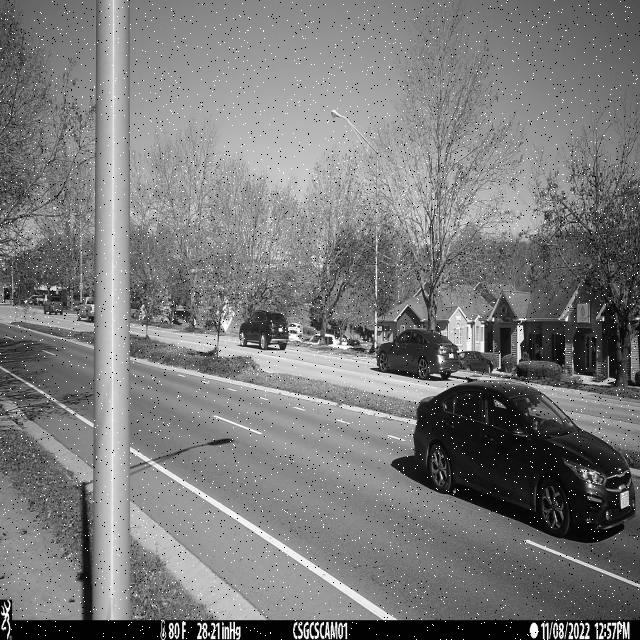Sedan: (413, 380, 636, 538)
